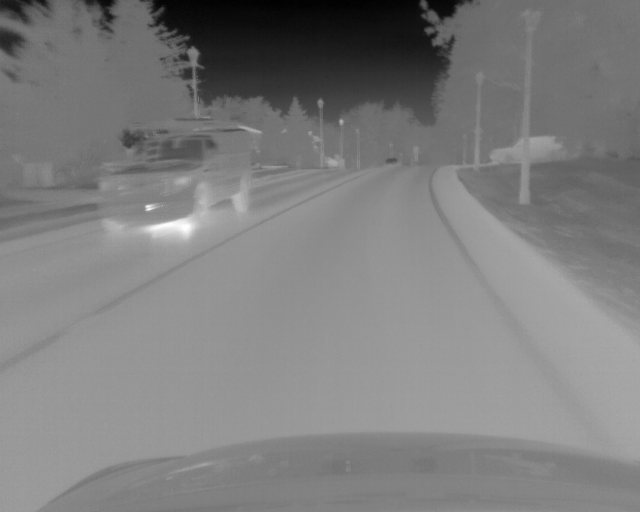car: (98, 116, 261, 232), (487, 135, 565, 161), (382, 156, 398, 167)
